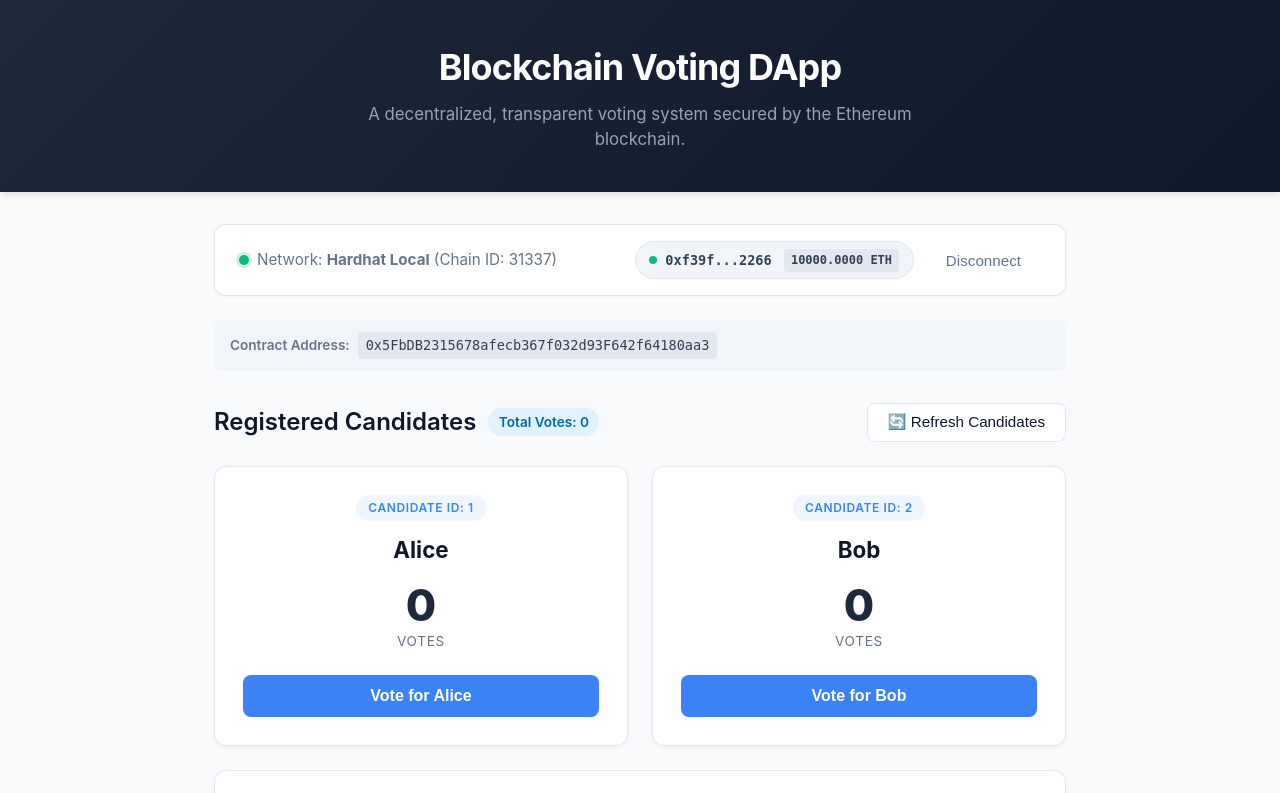
Test case: Voting DApp UI & Integration Tests › 7. Reads live vote counts via direct RPC (bypassing MetaMask cache) and shows Alice 0 / Bob 3 after 3 votes for Bob
Later steps or results of the test are not shown.
Click the button "Vote for Bob" at point(859, 696), box [681,675,1037,717]
(page scrolled)
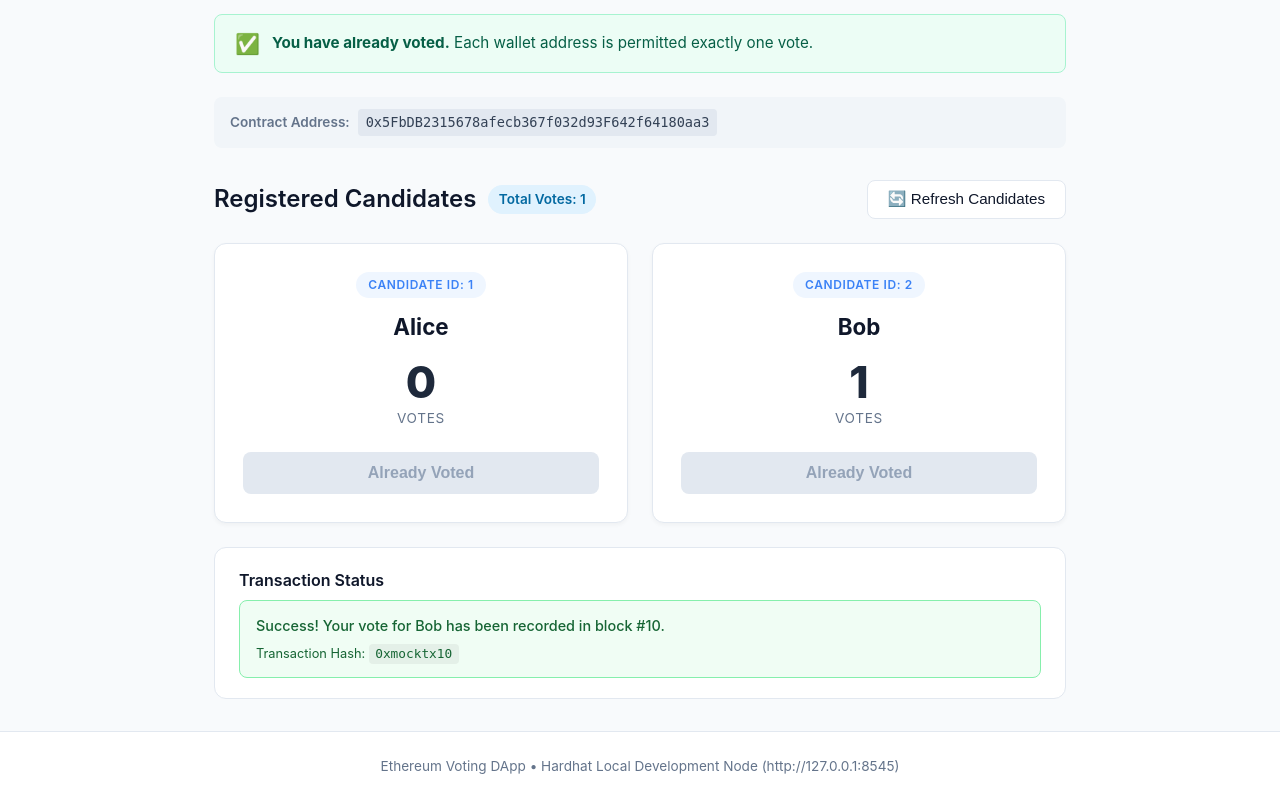
Check: the text "Success! Your vote for Bob has been recorded in block #10." is shown, box [256,617,665,634]
